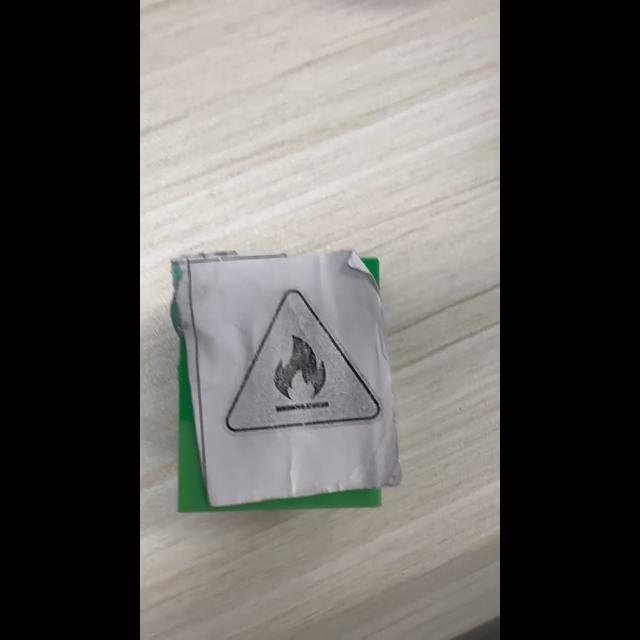Fire: (227, 288, 383, 432)
